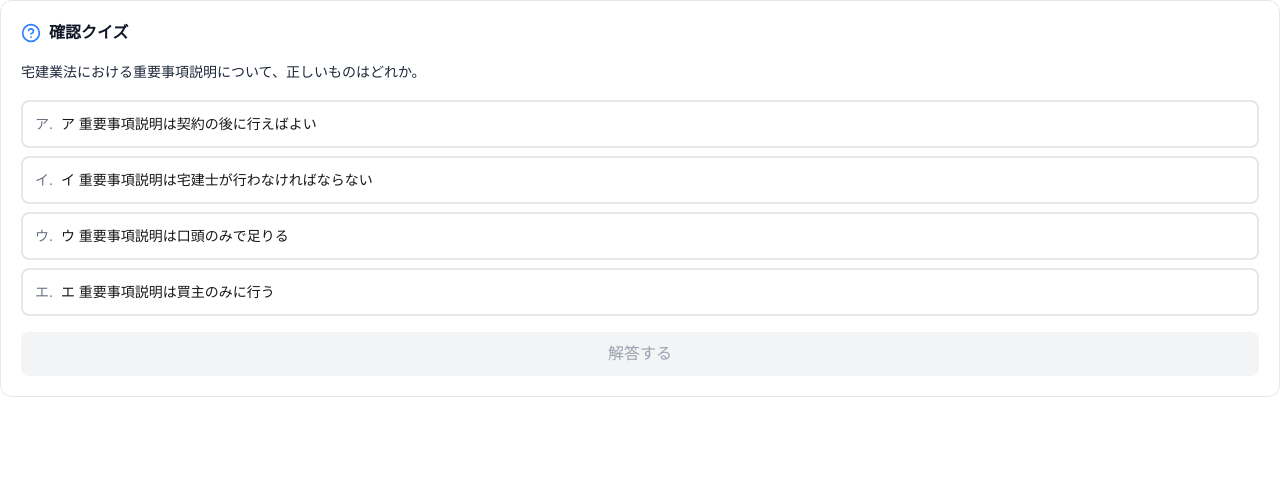
Scenario: QuizWidget › should show 不正解 when wrong answer is selected
This screenshot has width=1280, height=487.
Click the button "ア.ア 重要事項説明は契約の後に行えばよい": x=189, y=124 [21,100,1259,148]
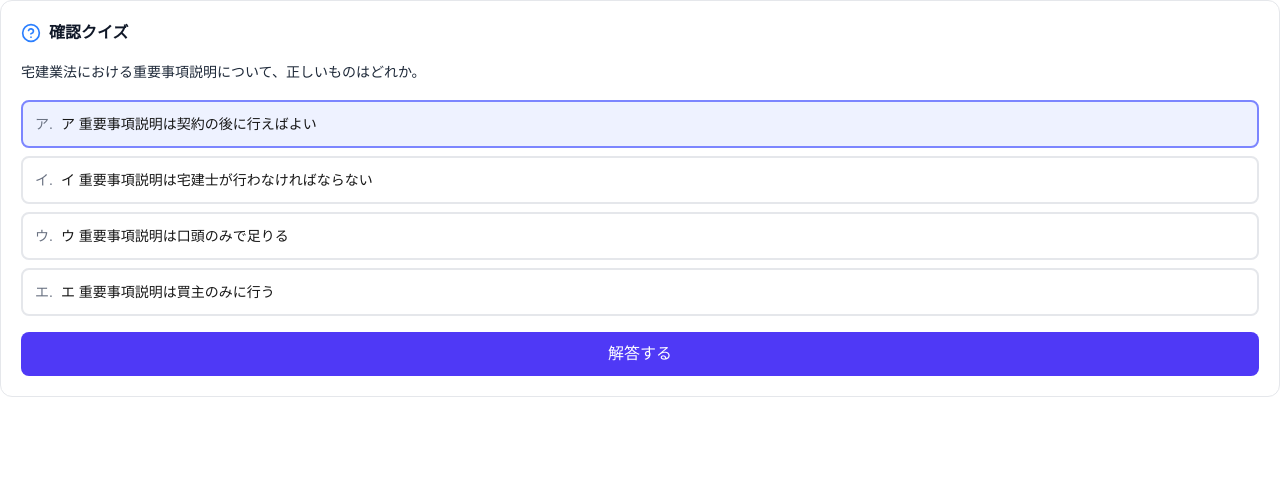
Click the button "解答する": x=640, y=354 [21,332,1259,376]
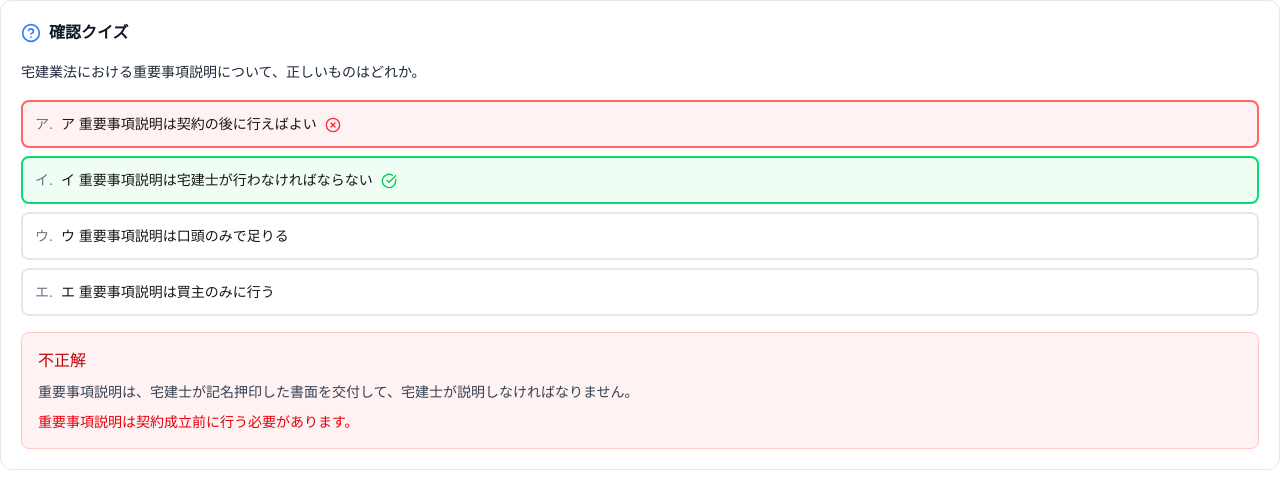
Expected: the text "不正解" is shown, [38,352,86,369]
